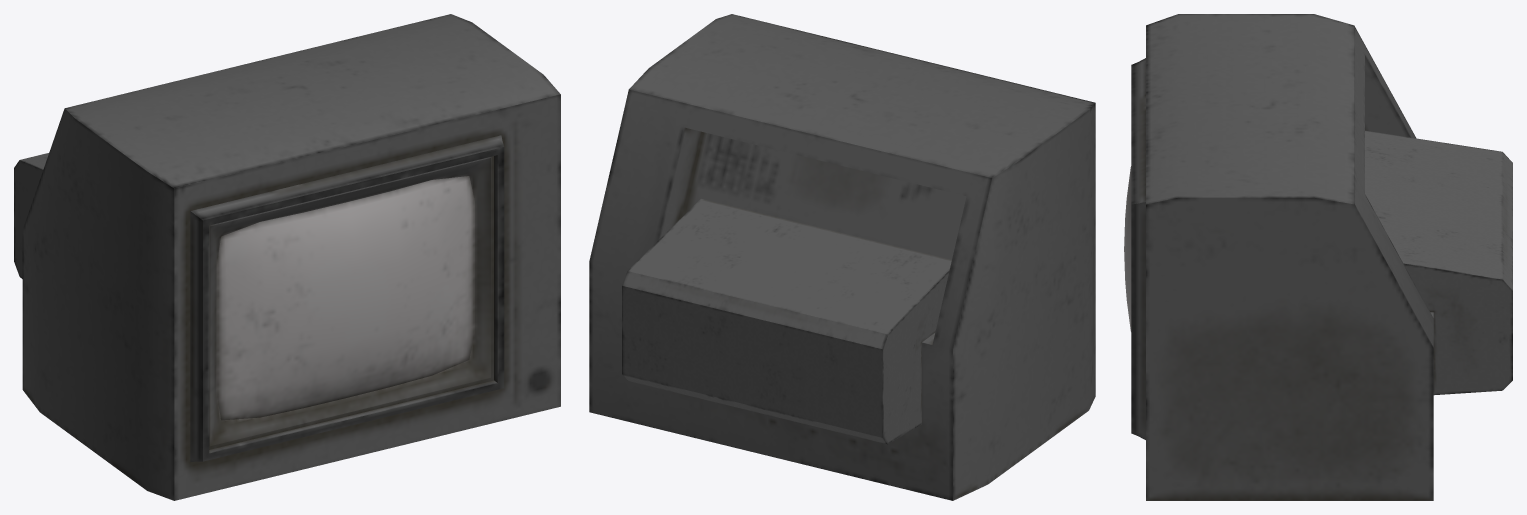
Rendered from Monitor CCTV.fbx.
3 views of the same model, side by side, from view 1: azimuth 30°, elevation 25°; view 2: azimuth 150°, elevation 25°; view 3: azimuth 270°, elevation 25° (orthographic). The views are drawn at different scales.
Visible parts, largest first — view 1: Tela de tubo; view 2: Tela de tubo; view 3: Tela de tubo.
Boxes of the visible parts, x1,y1,x2,y2 form: Tela de tubo: (14, 14, 560, 500); Tela de tubo: (589, 14, 1095, 500); Tela de tubo: (1124, 14, 1512, 500).
Size of the model in its own units: 63.16 by 48.63 by 56.5.
